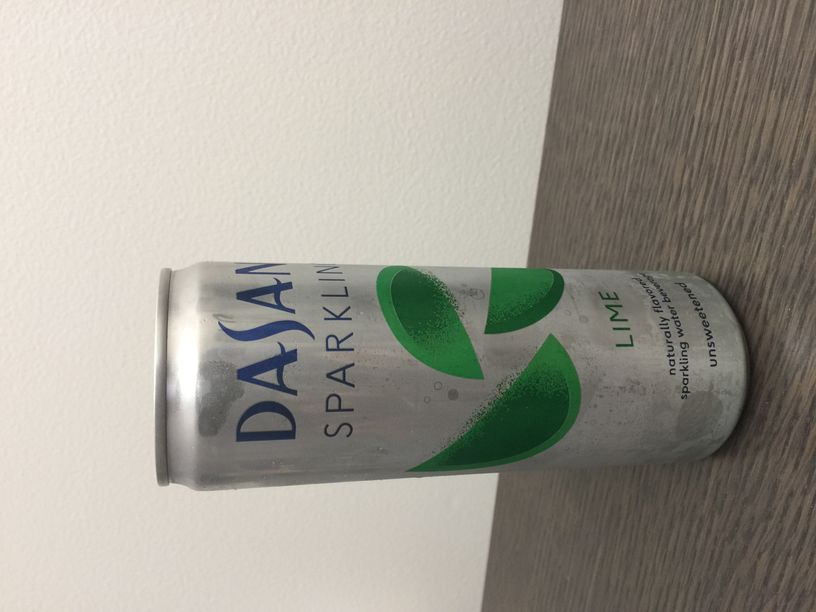lime: (153, 259, 751, 492)
